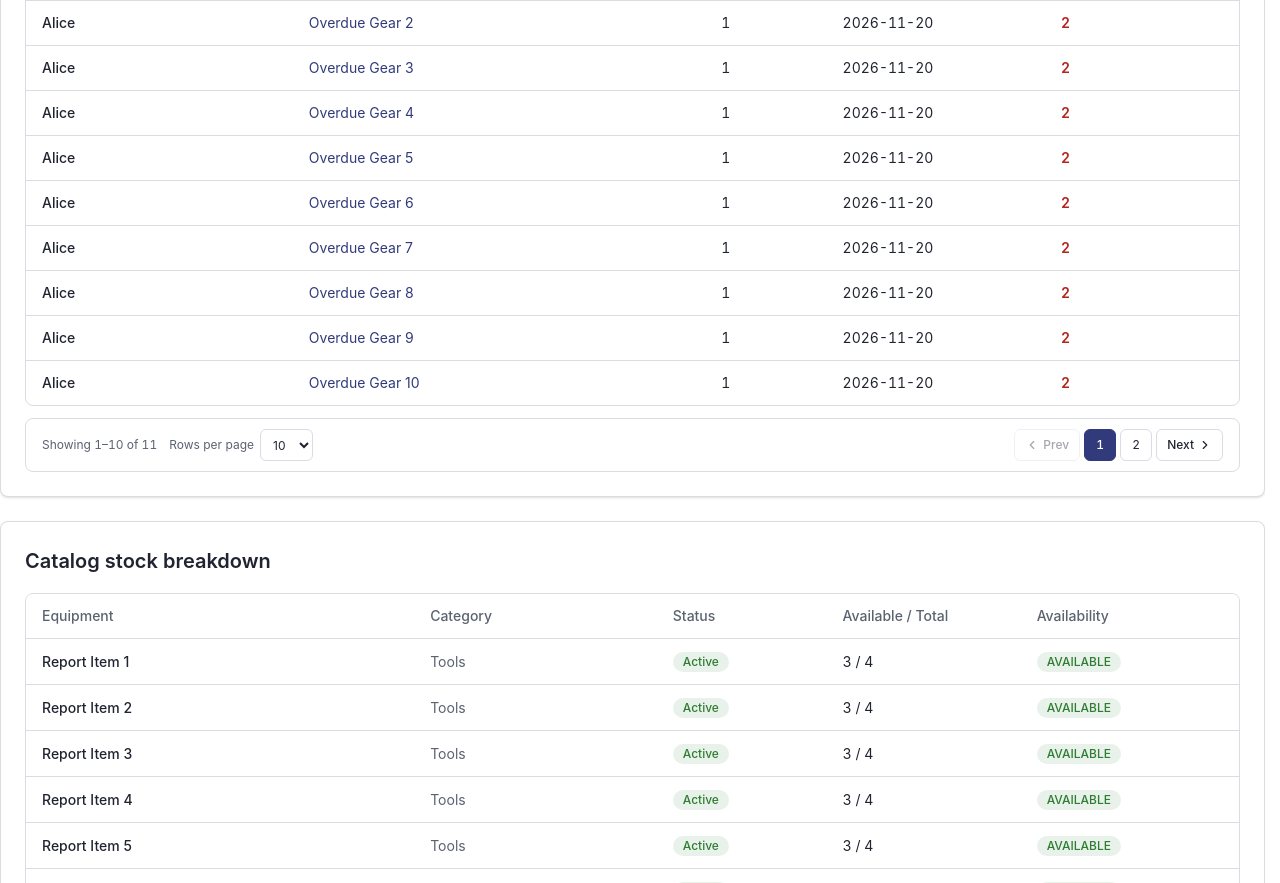
it: Sprint 3 F-09 ReportsPage (TEST-F09-02/03) › paginates Overdue loans and Catalog stock breakdown independently on ReportsPage
This screenshot has width=1280, height=883.
(page scrolled)
Check: the text "Showing 1–10 of 11" is shown, box [42, 437, 157, 453]
// Paging Overdue loans leaves Catalog stock breakdown on page 1
Click the button with aria-label "Next page" at (1190, 445), box [1156, 429, 1223, 461]
(page scrolled)
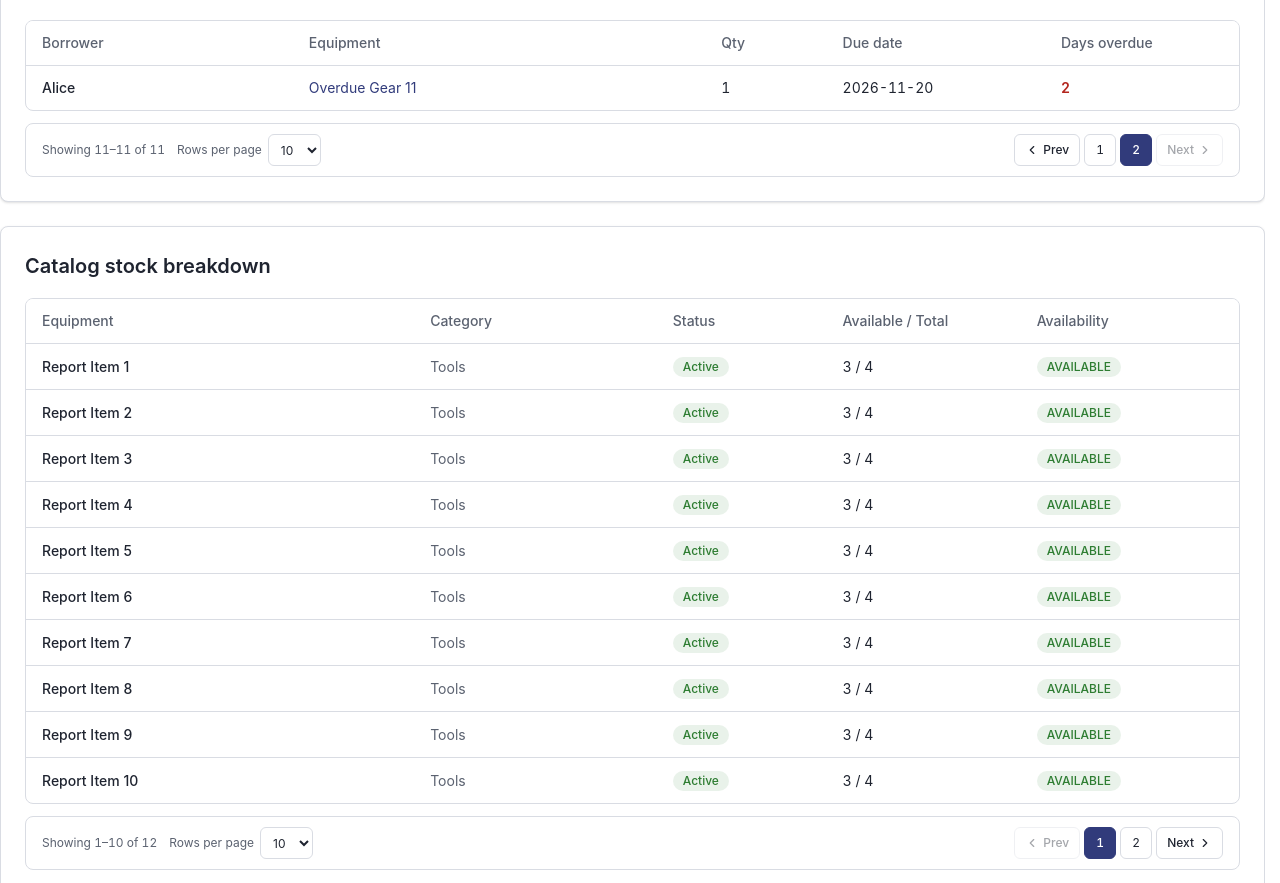
Check: the text "Showing 1–10 of 12" is shown, box [42, 836, 157, 852]
Check: the text "Showing 11–11 of 11" is shown, box [42, 142, 165, 158]
Check: the link "Overdue Gear 11" is shown, box [309, 79, 417, 96]
